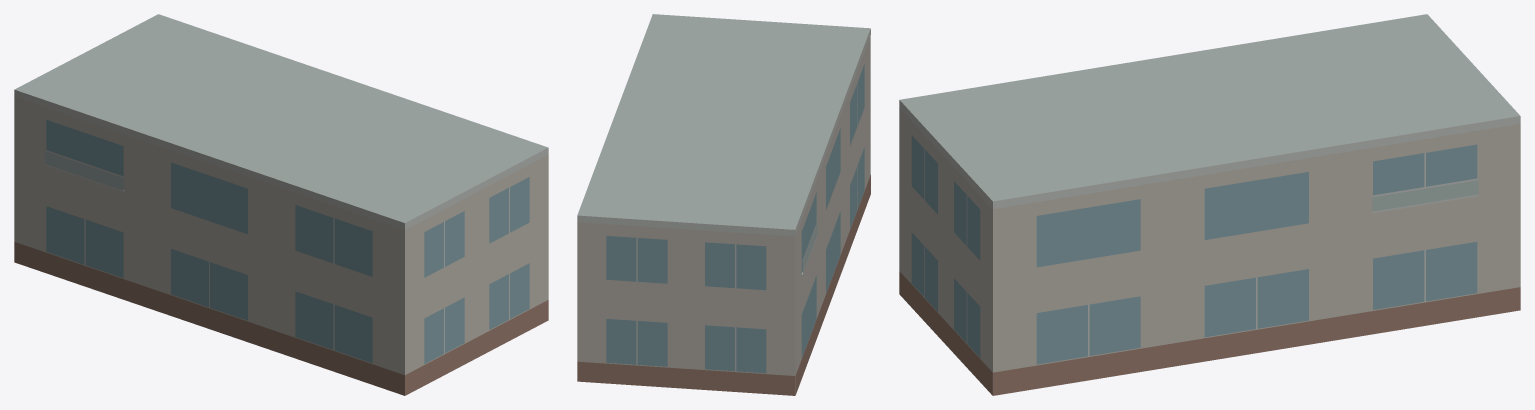
Rendered from survey-upis-32698451.glb.
The picture shows the model from 3 angles, left to right: view 1: azimuth 30°, elevation 25°; view 2: azimuth 150°, elevation 25°; view 3: azimuth 270°, elevation 25°; orthographic projection. The views are drawn at different scales.
Parts seen in each view (by area): view 1: survey-upis-32698451.tmp; view 2: survey-upis-32698451.tmp; view 3: survey-upis-32698451.tmp.
Boxes of the visible parts, x1,y1,x2,y2 form: survey-upis-32698451.tmp: [14, 14, 548, 395]; survey-upis-32698451.tmp: [577, 14, 870, 395]; survey-upis-32698451.tmp: [899, 14, 1520, 395].
Bounding box in the file's own units: 12.63 × 6.1 × 17.68.
